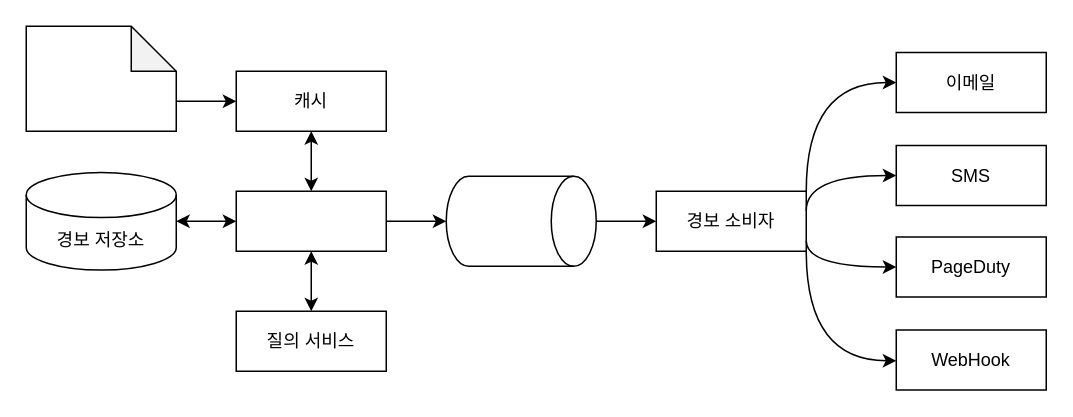
The diagram is 1073 pixels wide and 417 high, and some of its shapes have lost their labels. Each missing label, with the centre of its shape:
경보 관리자: point (310, 220)
규칙 설정 파일: point (100, 78)
카프카: point (520, 220)
